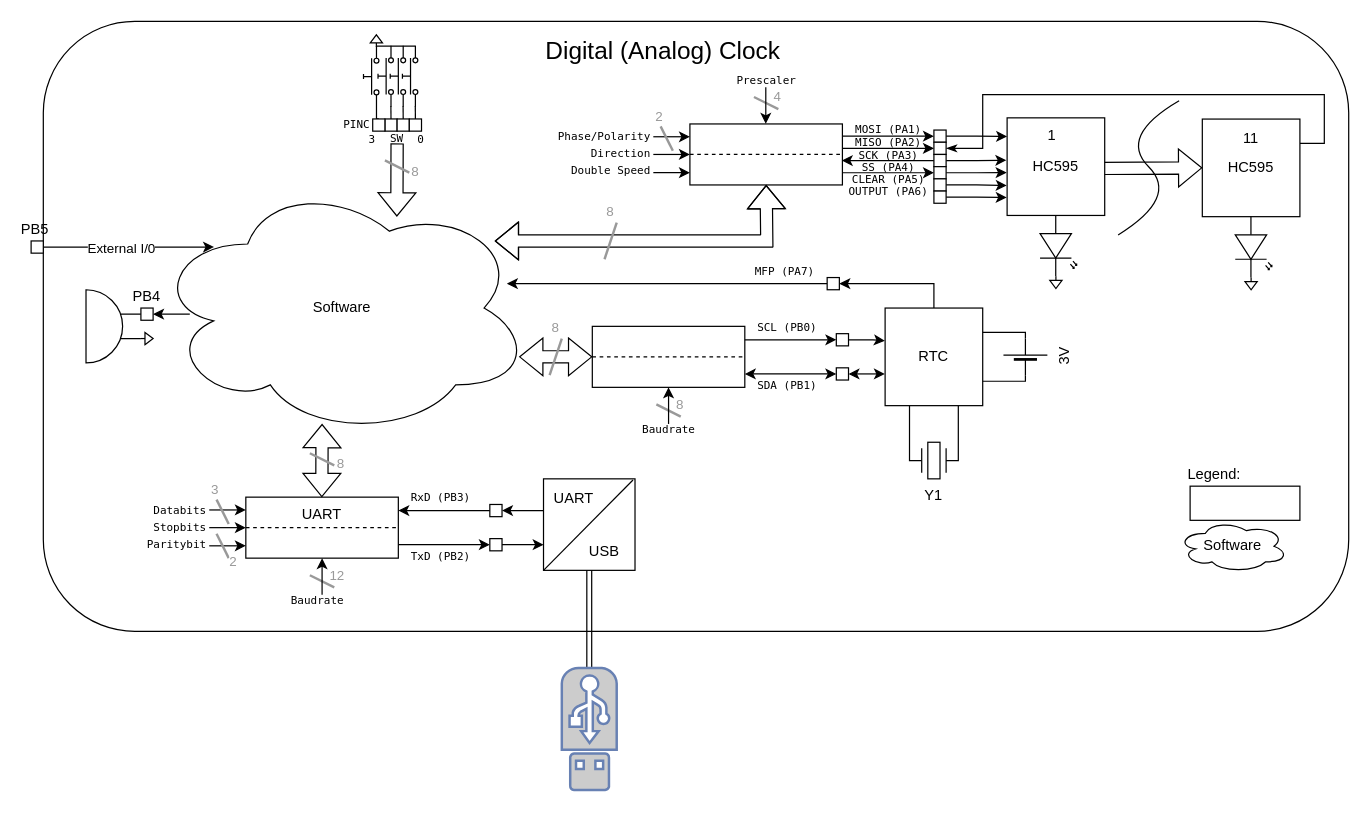
The diagram is 1370 pixels wide and 813 high, and some of its shapes have lost their labels. The box of each missing label's shape, as (x1, y1, x2, y2) in pixels:
Buzzer: (85, 289, 141, 363)
Hardware: (1189, 485, 1300, 520)
SPI: (689, 123, 842, 185)
TWI: (591, 325, 745, 387)
